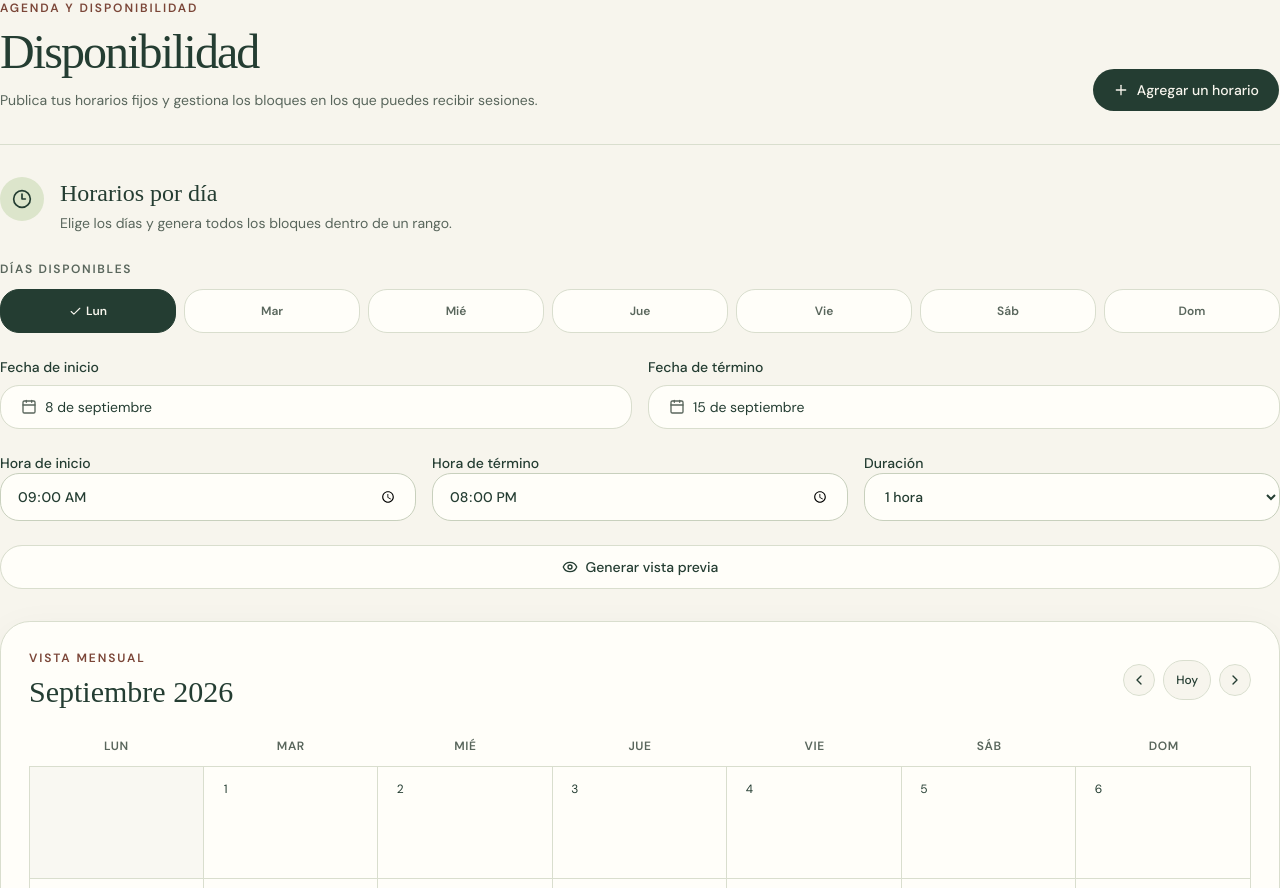
Test: ReservationsPanel › adds one schedule from the separate dialog
Click the button "Agregar un horario": x=1186, y=90 [1092,68,1279,112]
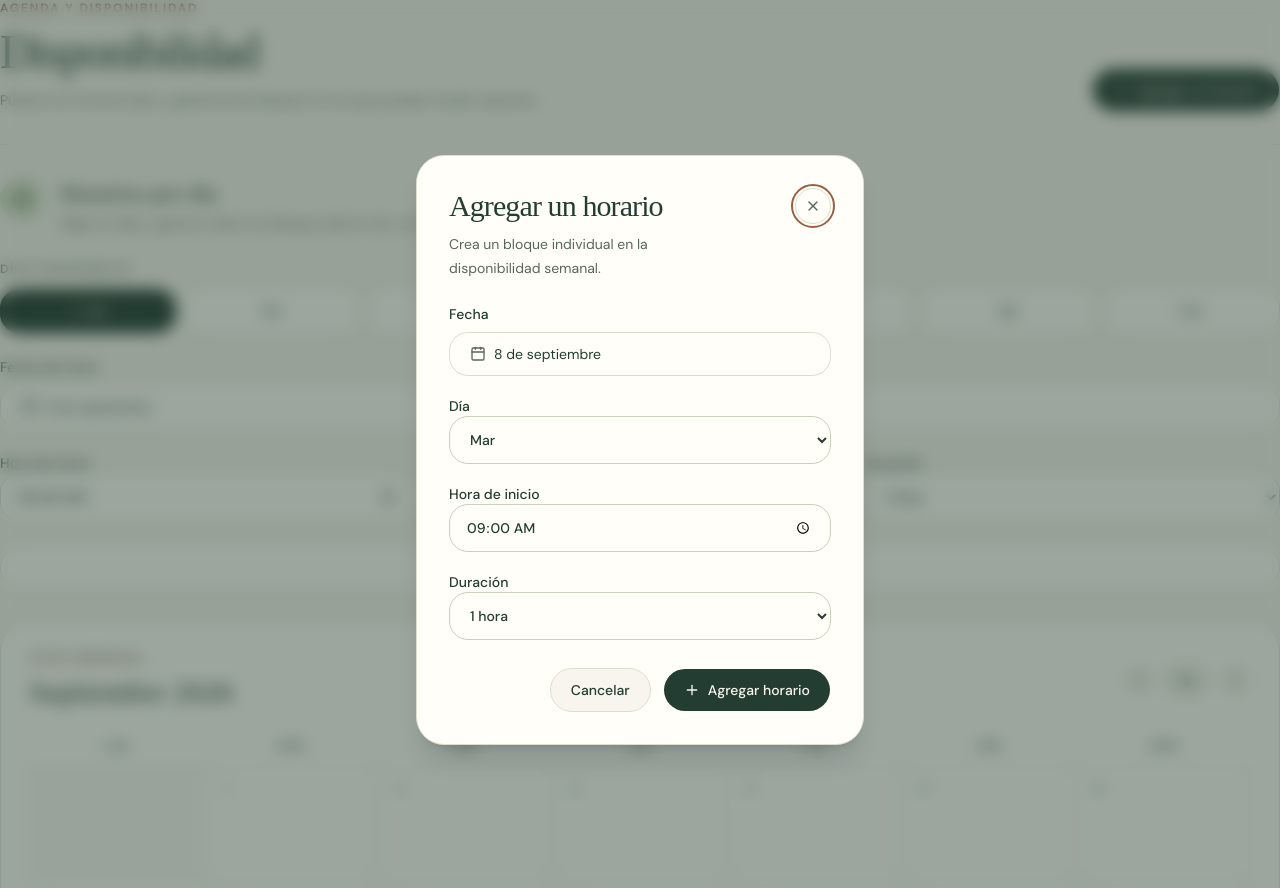
Select "2 horas" in the dropdown labelled "Duración": x=640, y=616 [449,592,831,640]
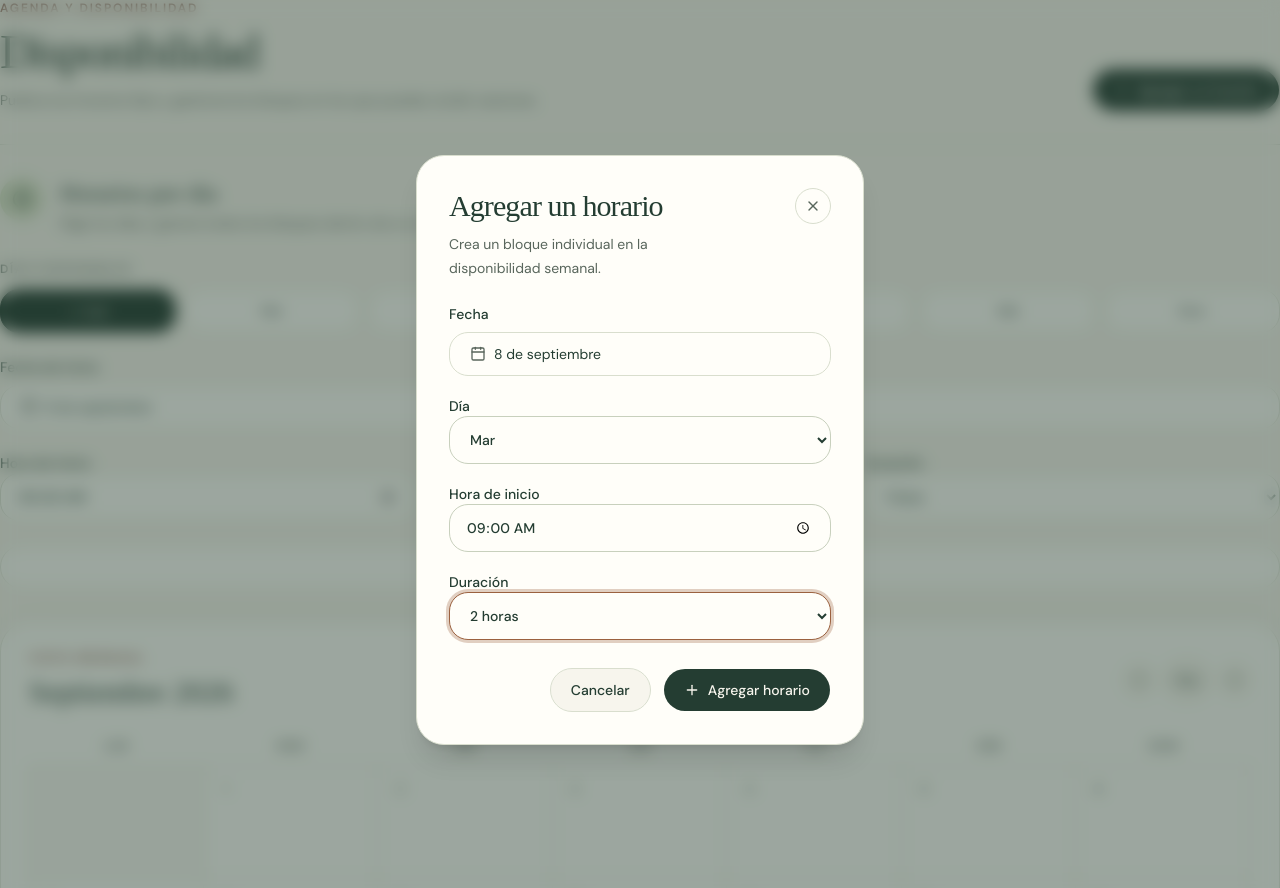
Click the button "Agregar horario": x=747, y=690 [663,668,831,712]
(page scrolled)
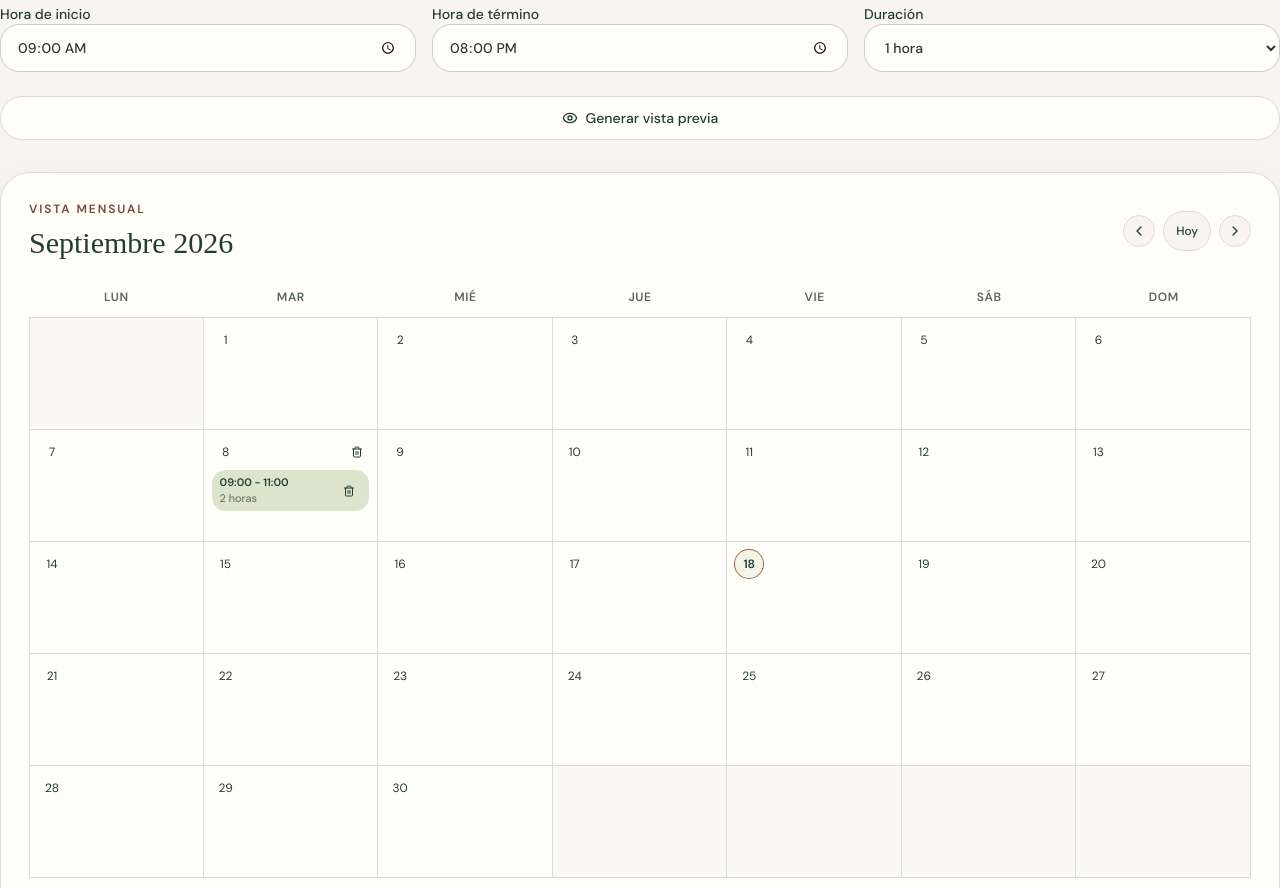
Expected: the button named "Eliminar Mar de 09:00 a 11:00" is shown, [337,479,361,503]
